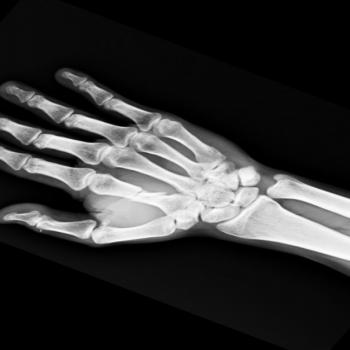Fracture: (126, 187, 151, 200)
